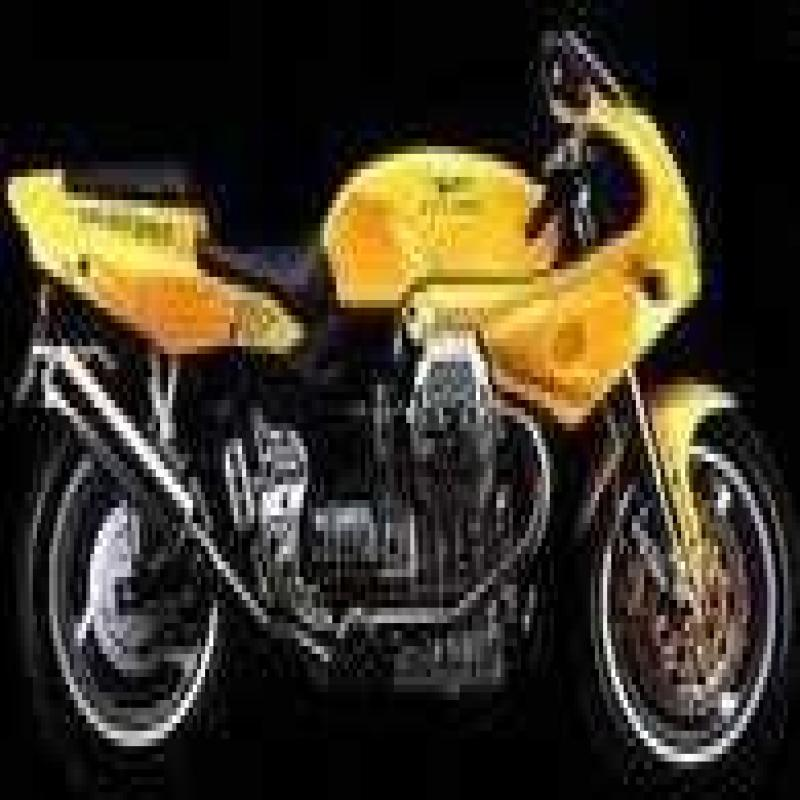bike: (18, 37, 800, 800)
